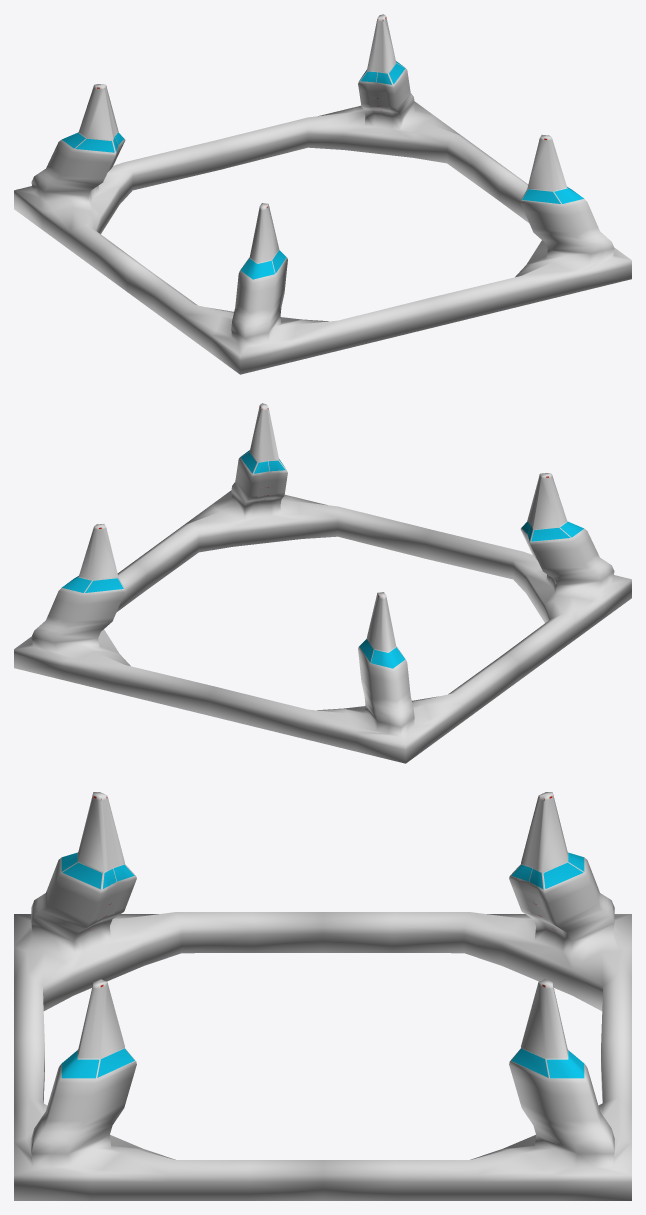
Rendered from Arena.fbx.
The picture shows the model from 3 angles, top to bottom: view 1: azimuth 30°, elevation 25°; view 2: azimuth 150°, elevation 25°; view 3: azimuth 270°, elevation 25°; orthographic projection. The views are drawn at different scales.
Parts seen in each view (by area): view 1: Light Mat; view 2: Light Mat; view 3: Light Mat.
Part boxes in pixels (left/top/right/bottom): Light Mat: left=14, top=14, right=631, bottom=374; Light Mat: left=14, top=403, right=631, bottom=763; Light Mat: left=14, top=792, right=631, bottom=1200.
Size of the model in its own units: 40000 by 12982 by 40000.
